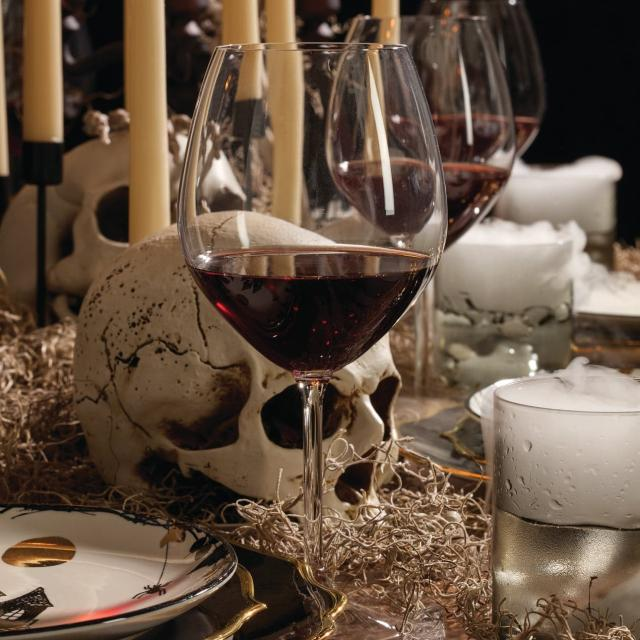glass: (149, 31, 473, 612), (270, 6, 560, 415)
